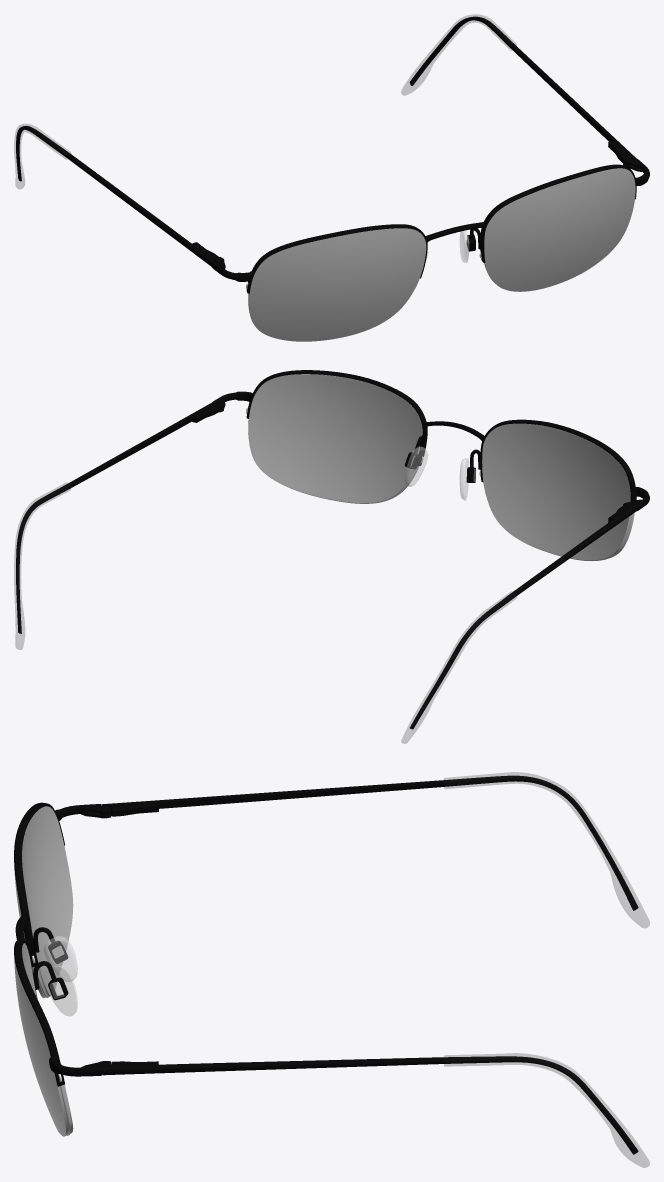
The model's file is glasses_7.glb.
3 renders of one model, top to bottom at view 1: azimuth 30°, elevation 25°; view 2: azimuth 150°, elevation 25°; view 3: azimuth 270°, elevation 25°, orthographic. The views are drawn at different scales.
Parts seen in each view (by area): view 1: Lens.001_8, Frame.001_7, Temple_L.001_12, Temple_R.001_14, Temple_tip_L.001_16, Temple_tip_R.001_18; view 2: Lens.001_8, Frame.001_7, Temple_L.001_12, Temple_R.001_14, Temple_tip_R.001_18, Temple_tip_L.001_16, Nosepads.001_10; view 3: Lens.001_8, Frame.001_7, Temple_R.001_14, Temple_L.001_12, Temple_tip_R.001_18, Temple_tip_L.001_16, Nosepads.001_10.
Part boxes in pixels (box(x1,y1,x2,y2)): Lens.001_8: box(246, 168, 635, 341); Frame.001_7: box(211, 156, 649, 293); Temple_L.001_12: box(409, 16, 636, 165); Temple_R.001_14: box(16, 126, 218, 266); Temple_tip_L.001_16: box(401, 14, 516, 95); Temple_tip_R.001_18: box(14, 124, 70, 188); Lens.001_8: box(246, 374, 634, 560); Frame.001_7: box(212, 370, 649, 510); Temple_L.001_12: box(16, 402, 222, 633); Temple_R.001_14: box(410, 505, 637, 729); Temple_tip_R.001_18: box(401, 591, 516, 743); Temple_tip_L.001_16: box(14, 483, 71, 649); Nosepads.001_10: box(405, 447, 475, 500); Lens.001_8: box(14, 806, 73, 1136); Frame.001_7: box(14, 802, 111, 1086); Temple_R.001_14: box(100, 775, 638, 910); Temple_L.001_12: box(102, 1056, 638, 1154); Temple_tip_R.001_18: box(444, 772, 649, 927); Temple_tip_L.001_16: box(444, 1053, 649, 1167); Nosepads.001_10: box(44, 936, 77, 1015).
Size of the model in its own units: 0.1528 by 0.0371 by 0.1438.
Materials: 5 (1 with a texture image).
